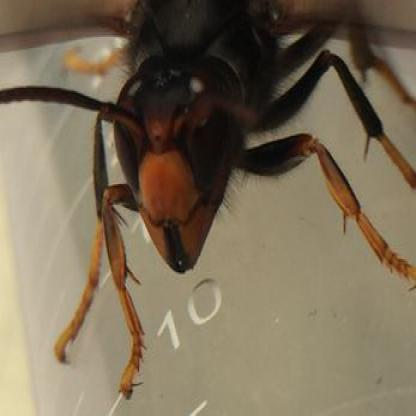Asian Hornet: (39, 2, 380, 415)
